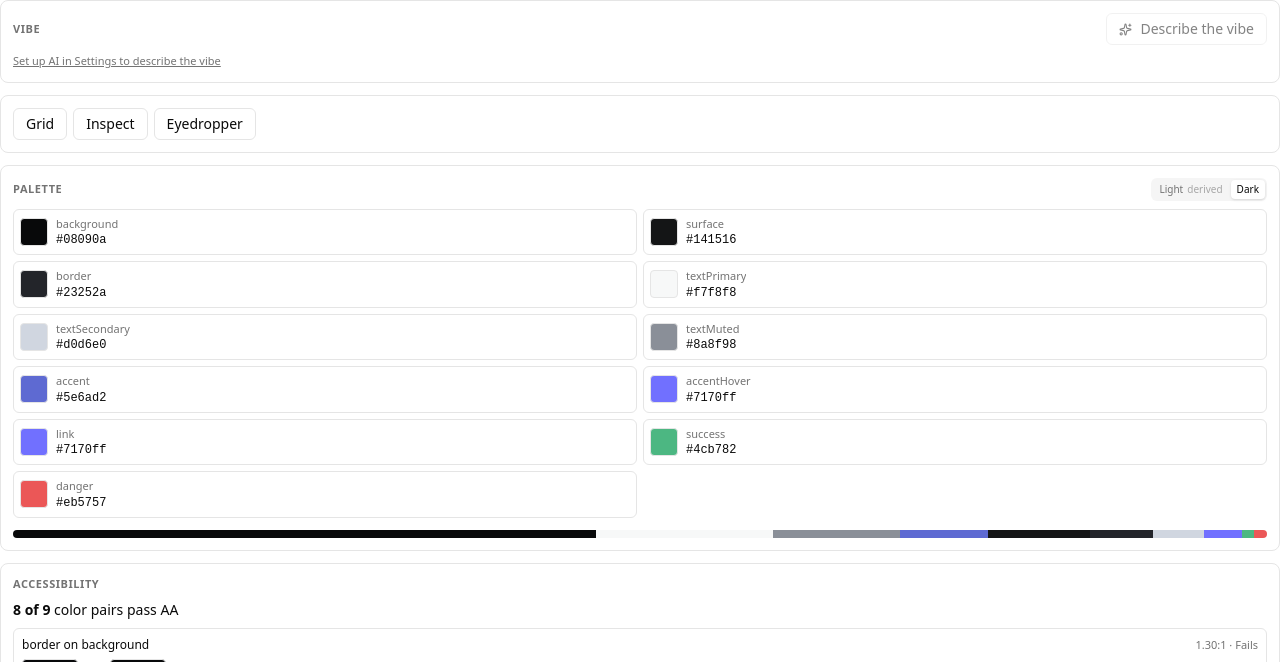
Test: T1.38 Inspect Port listener (SPC-27) › T1.38 toggling Inspect off removes our listeners, never disconnects, and resets the card
This screenshot has width=1280, height=662.
Click the button "Inspect": click(110, 124) top-left (73, 108), bottom-right (148, 140)
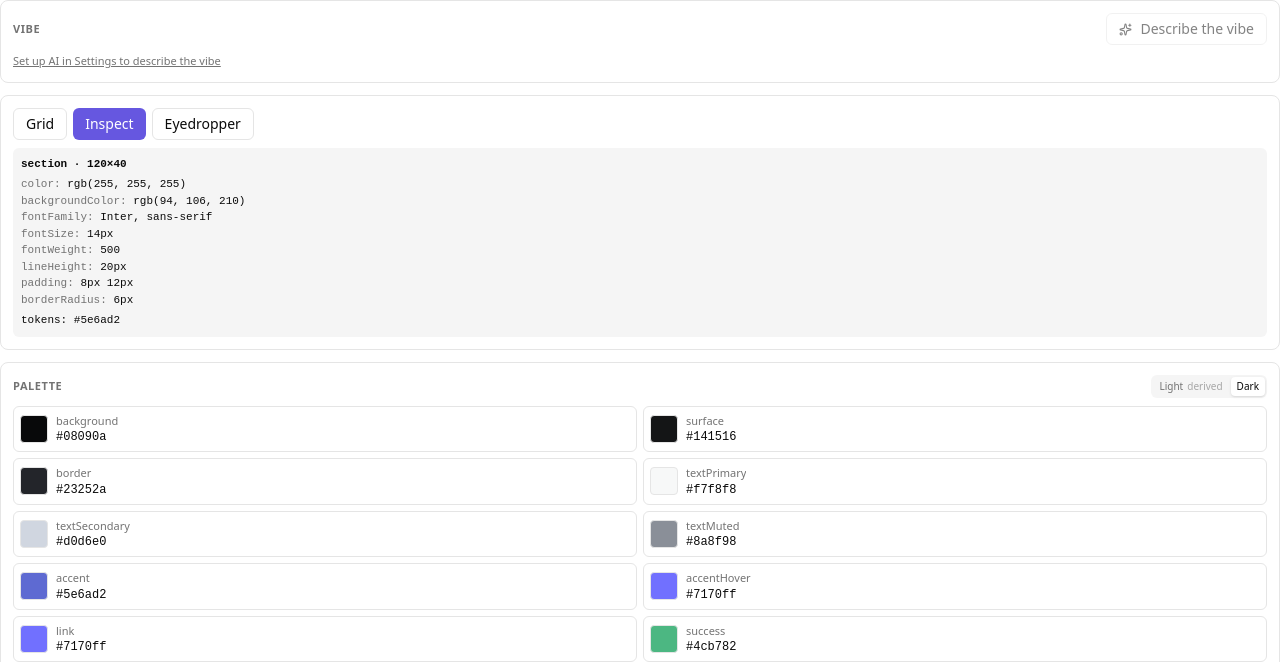
expect the element with test id "inspector-card" is shown: met, box top-left (13, 148), bottom-right (1267, 336)
Click the button "Inspect": click(109, 124) top-left (73, 108), bottom-right (146, 140)
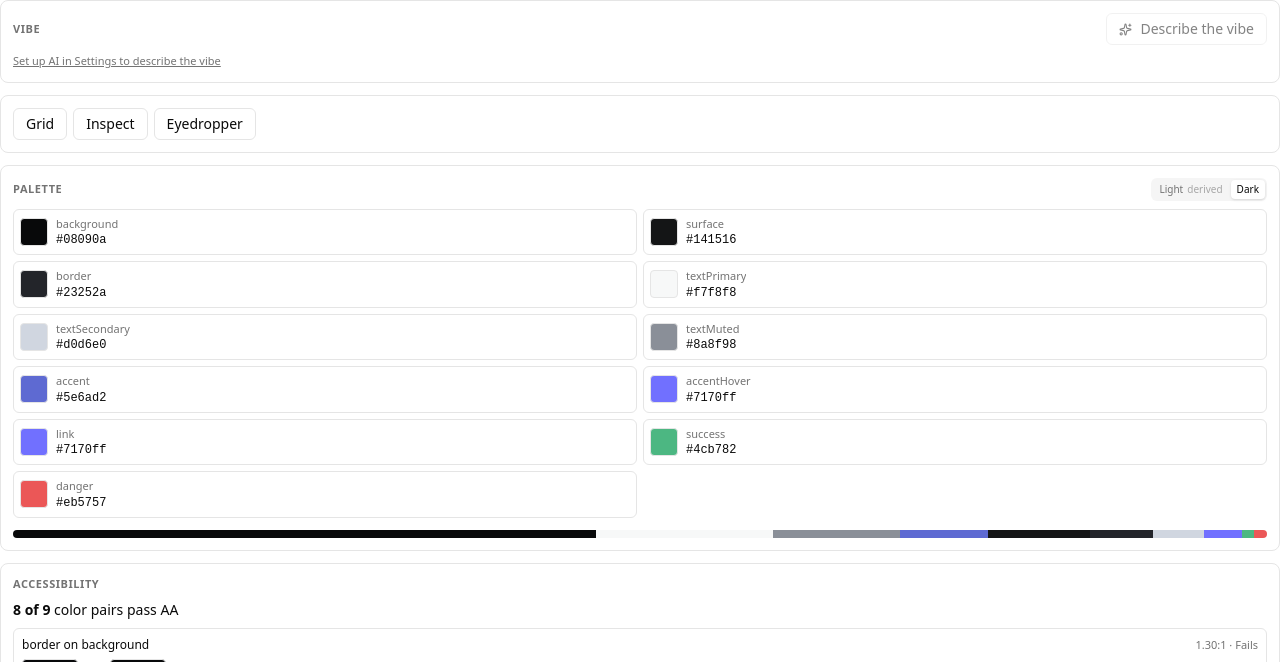
expect the element with test id "inspector-card" is gone: met
Click the button "Inspect": click(110, 124) top-left (73, 108), bottom-right (148, 140)
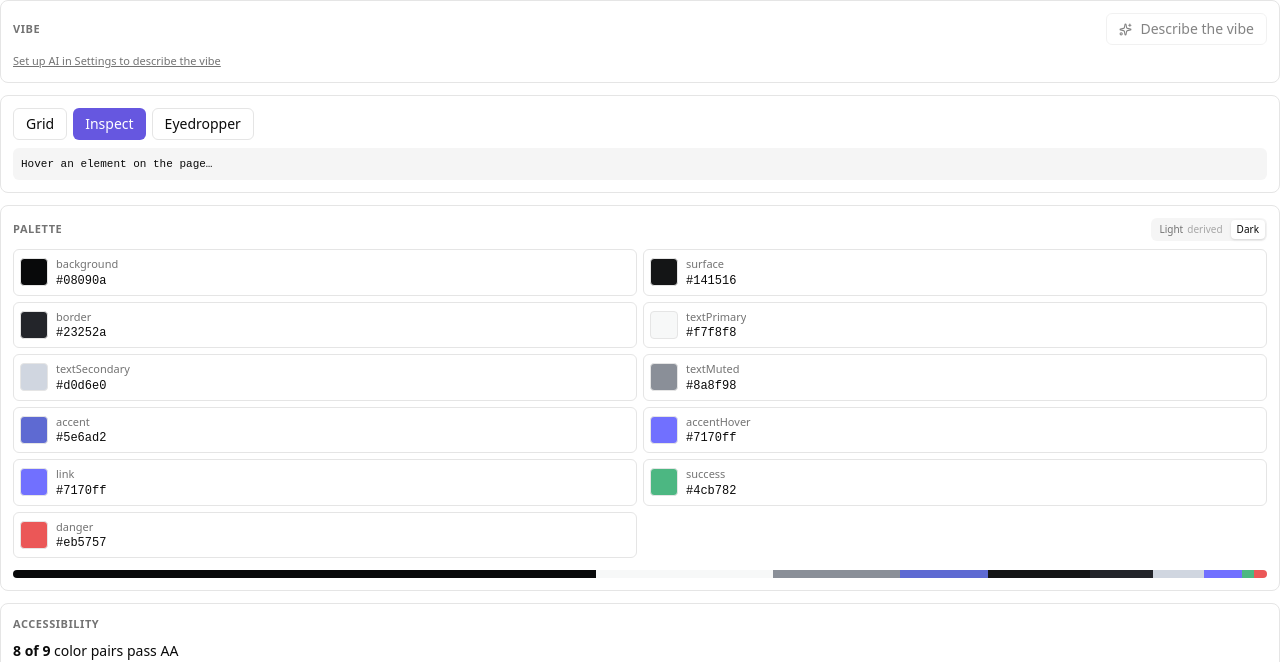
expect the text "Hover an element on the page…" is shown: met, box top-left (13, 148), bottom-right (1267, 180)
expect the text with test id "inspector-card" shows "Hover an element on the page": met, box top-left (21, 158), bottom-right (212, 170)
